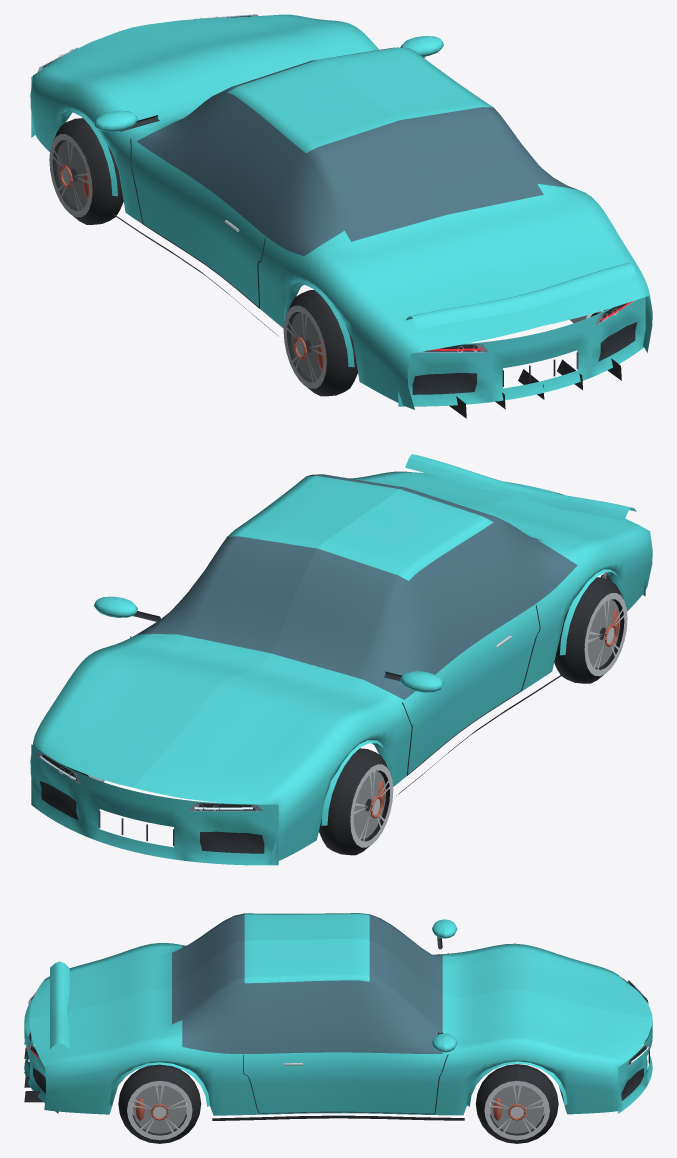
File: tempest_gt_low.glb
3 views of the same model, one above another, from view 1: azimuth 30°, elevation 25°; view 2: azimuth 150°, elevation 25°; view 3: azimuth 270°, elevation 25° (orthographic). The views are drawn at different scales.
Visible parts, largest first — view 1: Body, Wheel_0, Wheel_2; view 2: Body, Wheel_0, Wheel_2; view 3: Body, Wheel_1, Wheel_3.
Part boxes in pixels (box(x1,y1,x2,y2)): Body: box(30, 14, 652, 418); Wheel_0: box(49, 118, 123, 224); Wheel_2: box(283, 290, 357, 396); Body: box(30, 454, 652, 865); Wheel_0: box(319, 748, 393, 855); Wheel_2: box(554, 577, 627, 683); Body: box(24, 913, 652, 1120); Wheel_1: box(475, 1064, 558, 1143); Wheel_3: box(118, 1064, 201, 1143).
Size of the model in its own units: 2.51 by 1.39 by 5.32.
